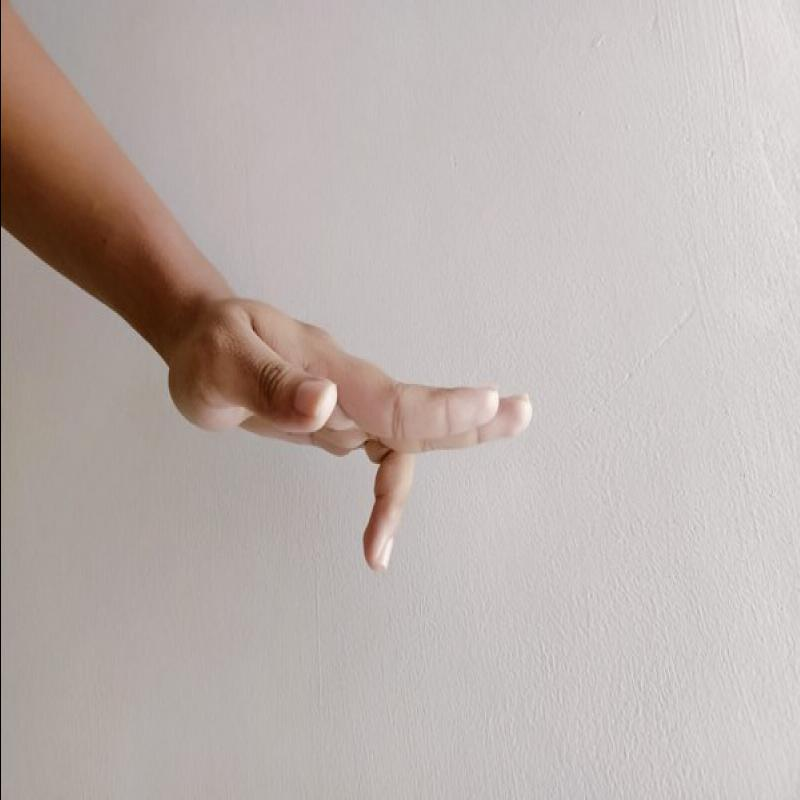Pathaaka: (165, 271, 562, 579)
